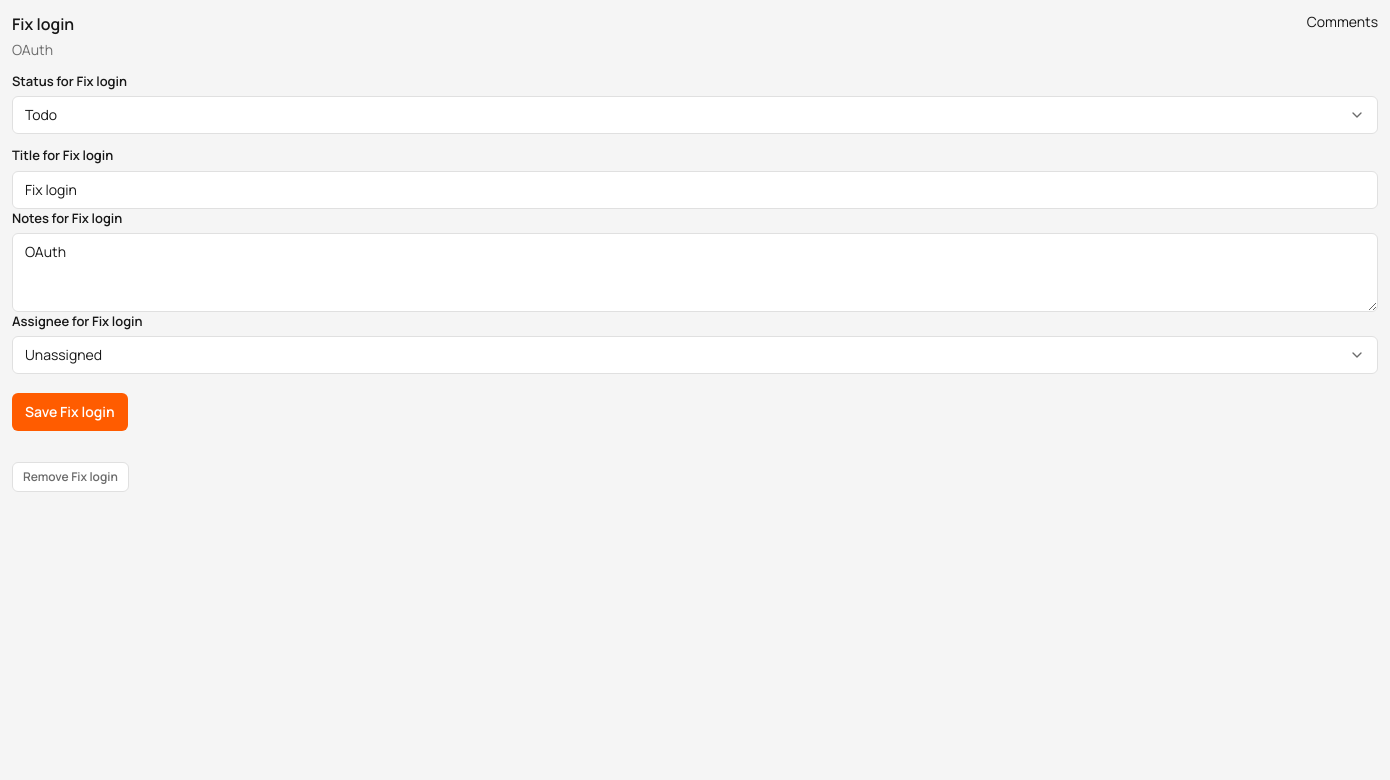
Scenario: TaskList › shows a forbidden error from the API
This screenshot has width=1390, height=780.
Click the button "Remove Fix login".
click(70, 478)  # box 12,462 -> 129,492
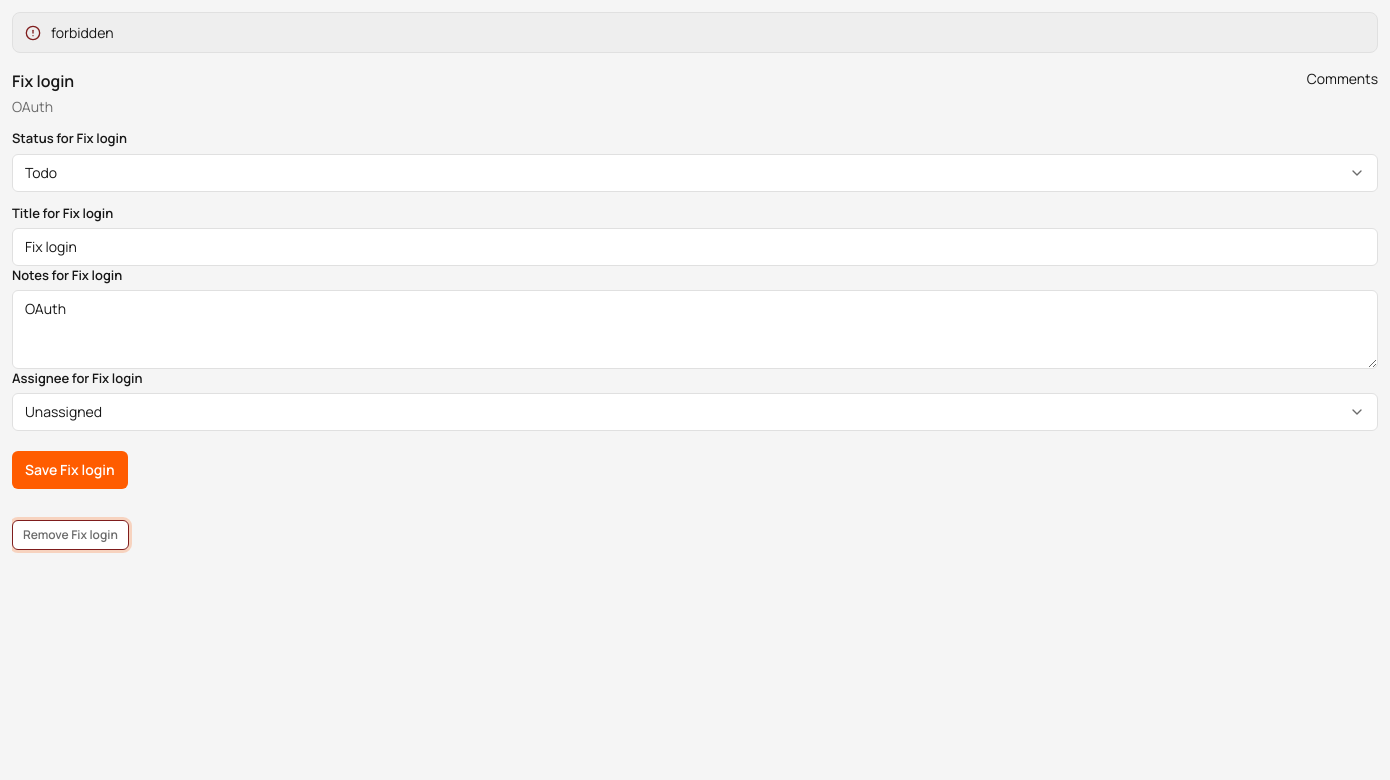
Result: the message reads "forbidden" at 51,23 -> 114,42
